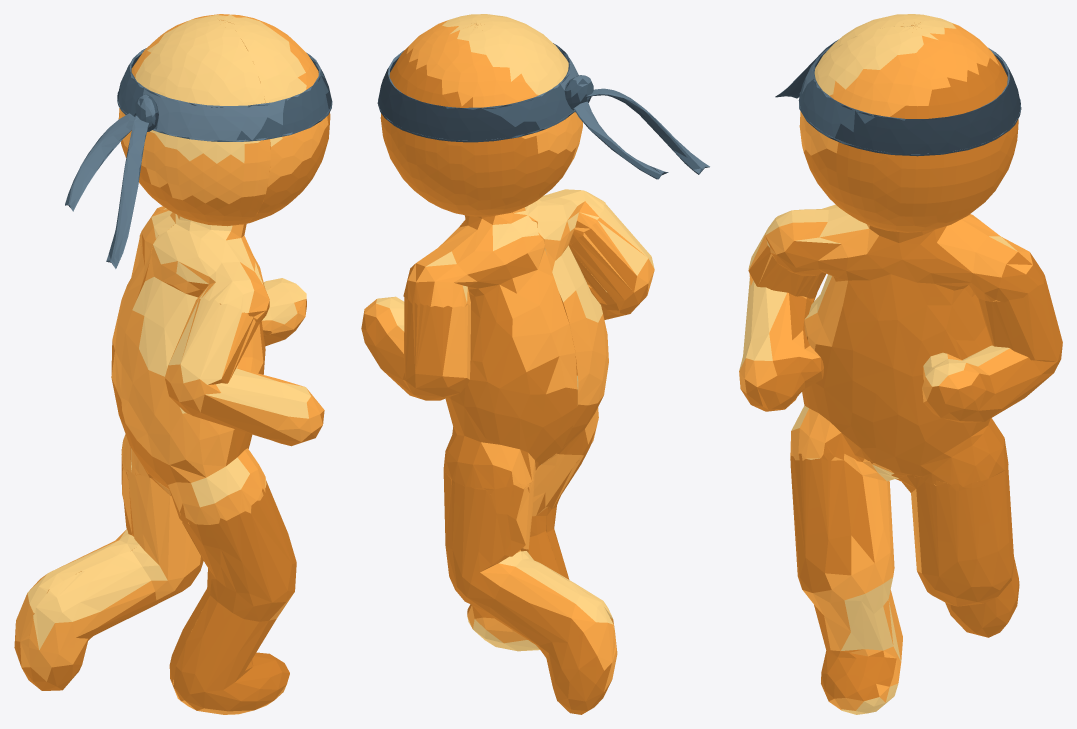
The model's file is Ninja_Jog5_R.gltf.
3 renders of one model, left to right at view 1: azimuth 30°, elevation 25°; view 2: azimuth 150°, elevation 25°; view 3: azimuth 270°, elevation 25°, orthographic. The views are drawn at different scales.
Parts seen in each view (by area): view 1: Ninja_Jog5_R_baked; view 2: Ninja_Jog5_R_baked; view 3: Ninja_Jog5_R_baked.
Boxes of the visible parts, x1,y1,x2,y2 form: Ninja_Jog5_R_baked: [14, 14, 332, 714]; Ninja_Jog5_R_baked: [361, 14, 709, 714]; Ninja_Jog5_R_baked: [739, 14, 1062, 714].
Size of the model in its own units: 0.4306 by 1 by 0.4269.
